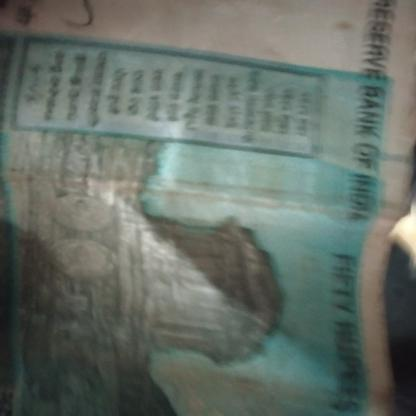New50Back: (0, 0, 396, 415)
